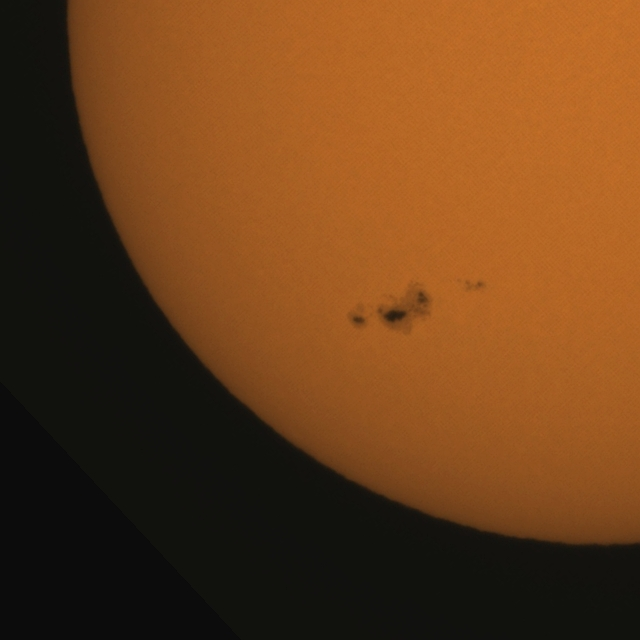sunspot: (379, 284, 442, 330), (342, 303, 379, 336), (462, 279, 484, 293)
